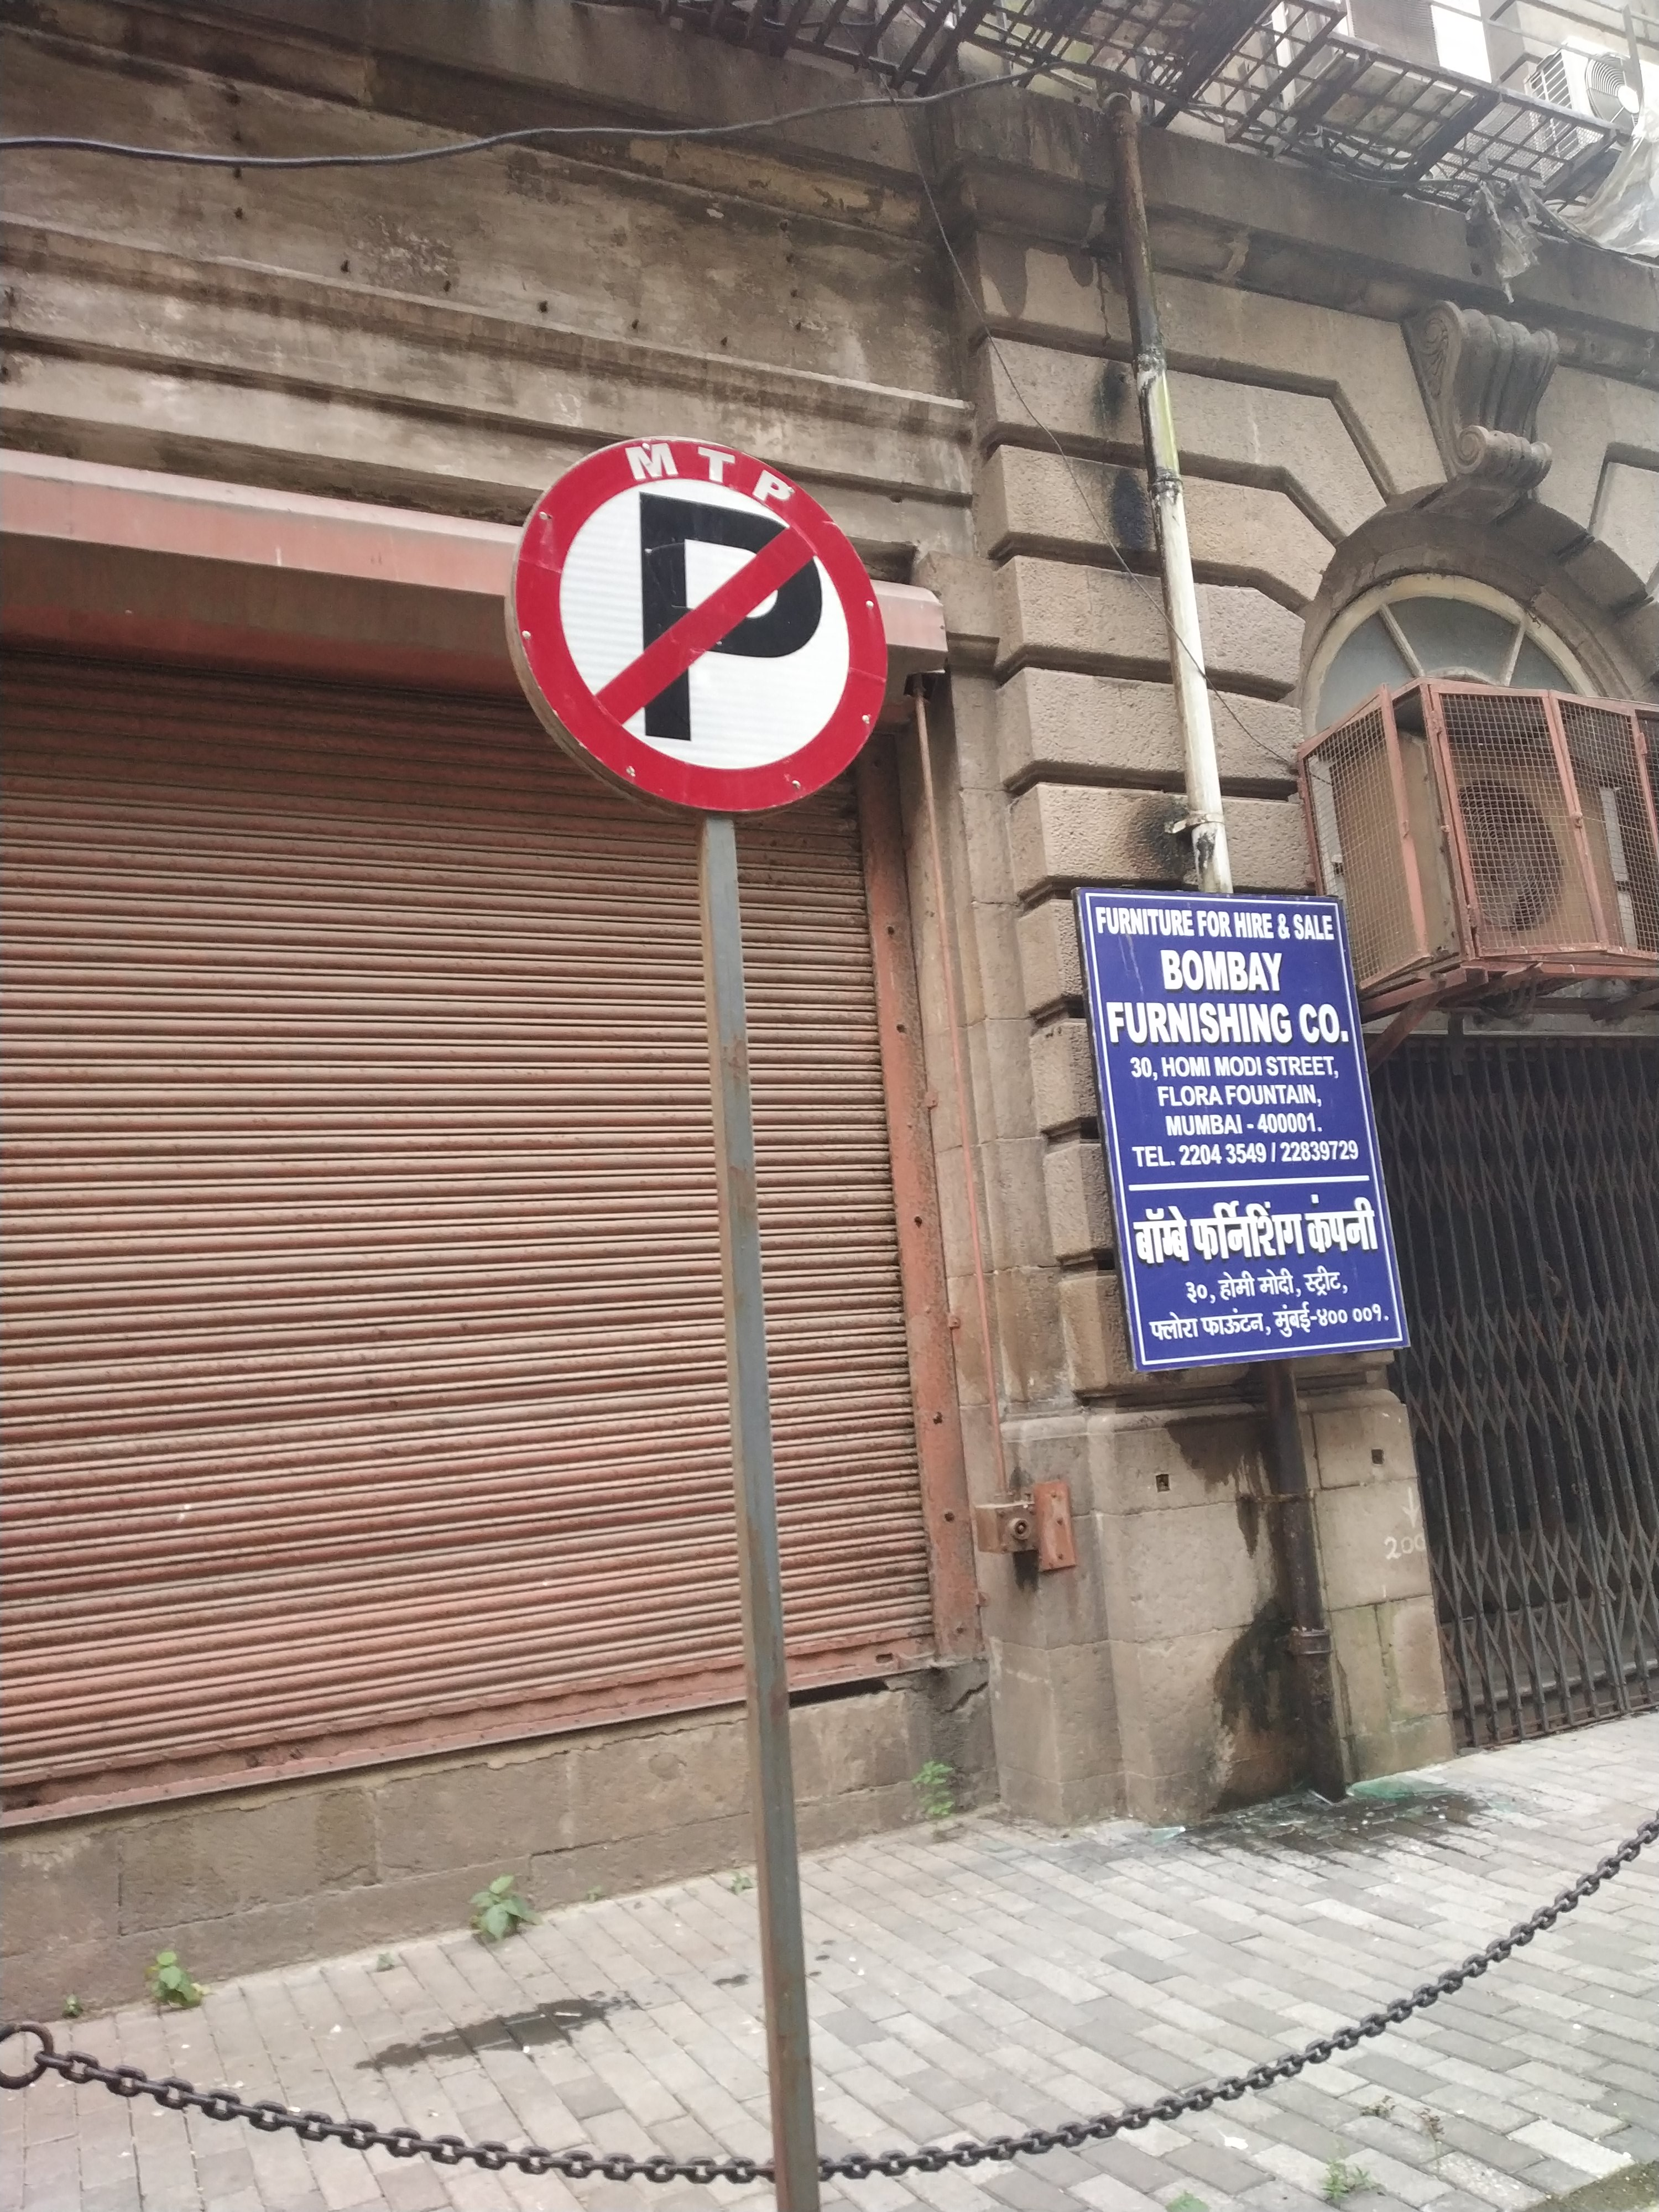traffic_sign: (512, 442, 889, 834)
